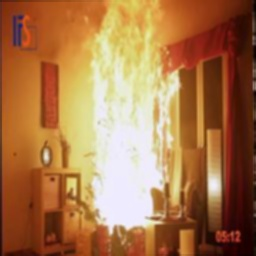fire: (74, 1, 173, 233)
